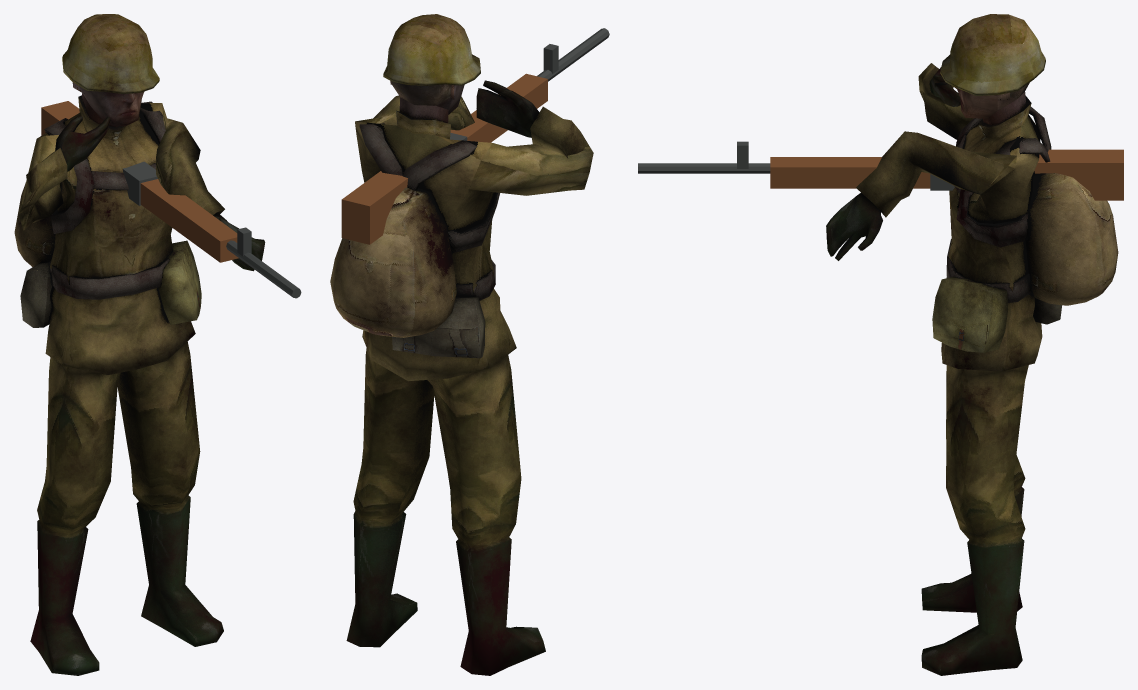
The model's file is soviet_ww2_soldier_fire_02.glb.
The picture shows the model from 3 angles, left to right: view 1: azimuth 30°, elevation 25°; view 2: azimuth 150°, elevation 25°; view 3: azimuth 270°, elevation 25°; orthographic projection. The views are drawn at different scales.
Parts seen in each view (by area): view 1: final_Static, SovietRifle_Generated; view 2: final_Static, SovietRifle_Generated; view 3: final_Static, SovietRifle_Generated.
Boxes of the visible parts, x1,y1,x2,y2 form: final_Static: (14, 14, 265, 675); SovietRifle_Generated: (41, 101, 301, 298); final_Static: (330, 14, 593, 675); SovietRifle_Generated: (341, 28, 609, 244); final_Static: (826, 14, 1118, 675); SovietRifle_Generated: (638, 141, 1123, 200).
Size of the model in its own units: 0.6165 by 1.72 by 1.23.
3 materials, 1 textured.
